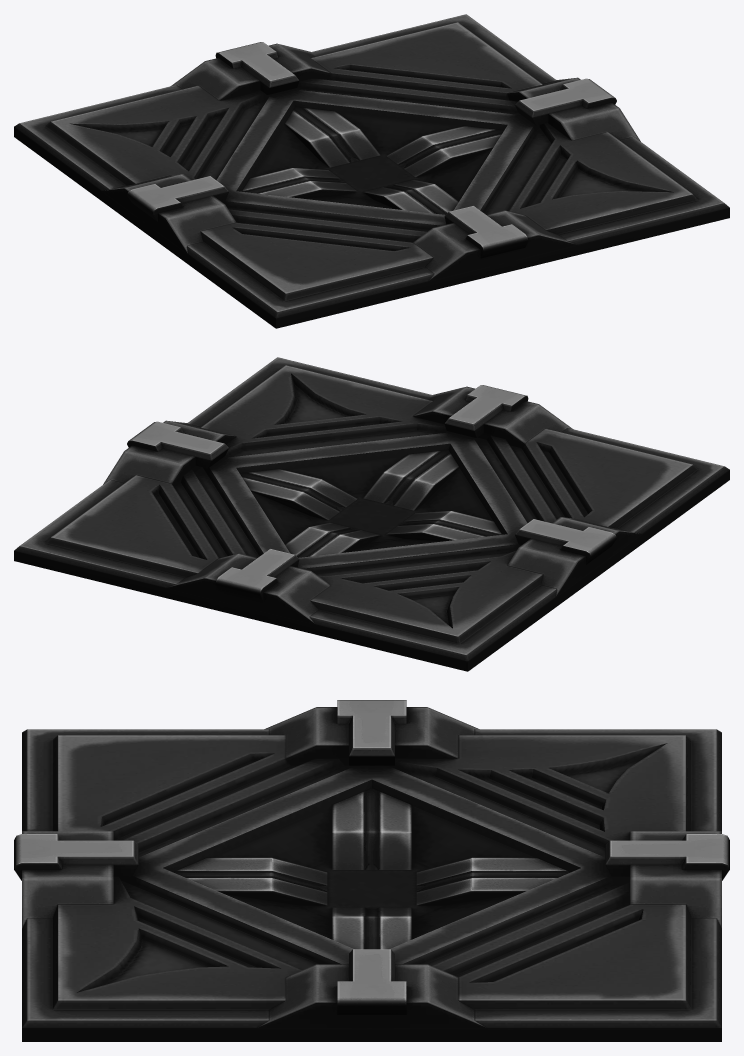
Rendered from trap_227_mpweak.fbx.
3 renders of one model, top to bottom at view 1: azimuth 30°, elevation 25°; view 2: azimuth 150°, elevation 25°; view 3: azimuth 270°, elevation 25°, orthographic. The views are drawn at different scales.
Parts seen in each view (by area): view 1: trap_227_mpweak; view 2: trap_227_mpweak; view 3: trap_227_mpweak.
Boxes of the visible parts, x1,y1,x2,y2 form: trap_227_mpweak: (14, 14, 729, 328); trap_227_mpweak: (14, 357, 729, 671); trap_227_mpweak: (14, 700, 729, 1041).
Bounding box in the file's own units: 1.02 × 0.0716 × 1.02.
1 material, 1 textured.
